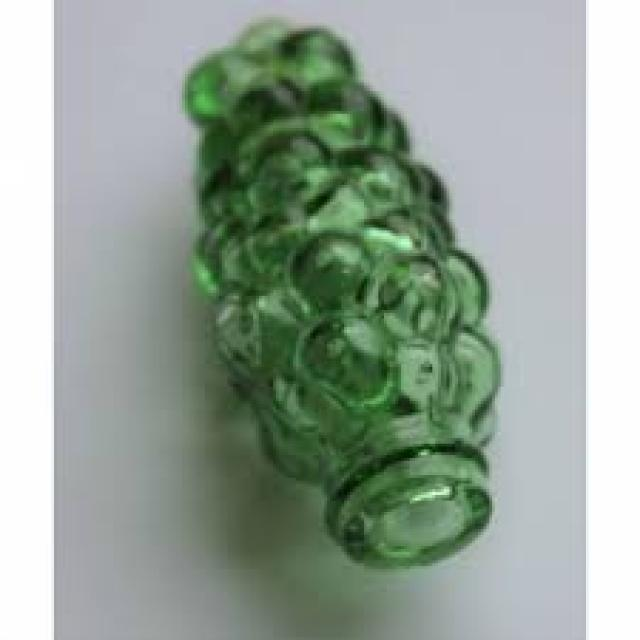glass: (182, 17, 495, 569)
